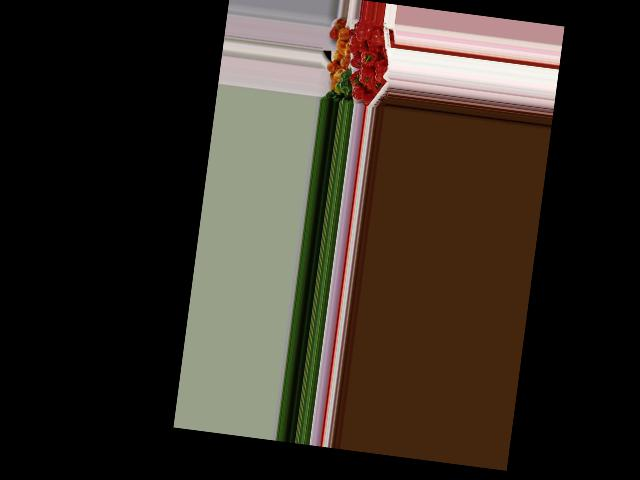bell_pepper: (373, 57, 390, 84)
